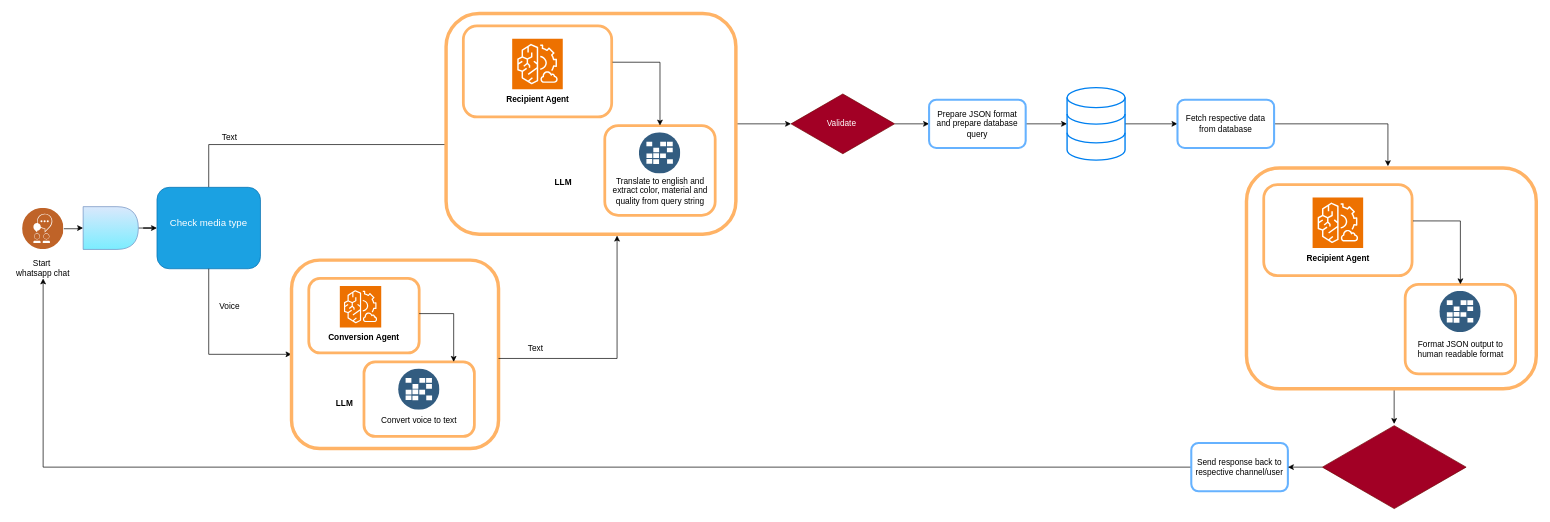
Some shapes in this 1550 by 522 pixel diagram are drawn without their labels. Here are the shapes that lost their labels. From the top down, the centre of each, then its label:
At point (1095, 123): "Pricing Database".
At point (110, 227): "Webhook".
At point (1394, 466): "Check response channel Text/ Voice".
